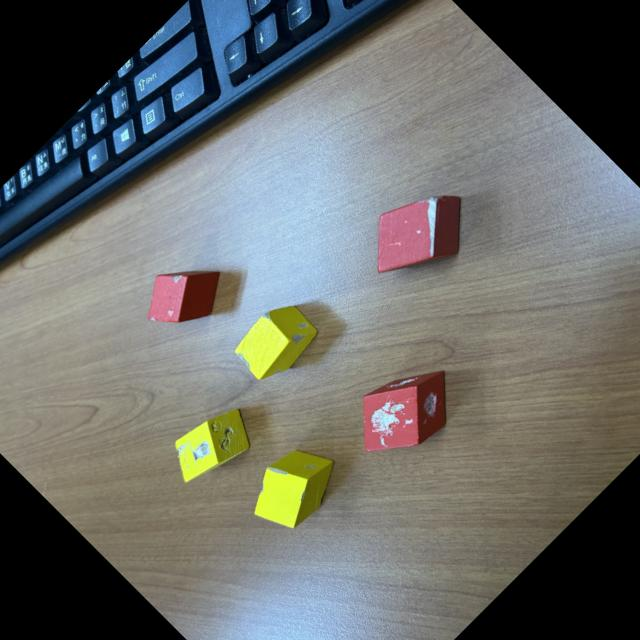broken: (350, 164, 489, 303), (338, 340, 475, 477), (236, 431, 350, 544), (132, 239, 240, 347), (160, 391, 266, 496), (226, 292, 326, 392)
